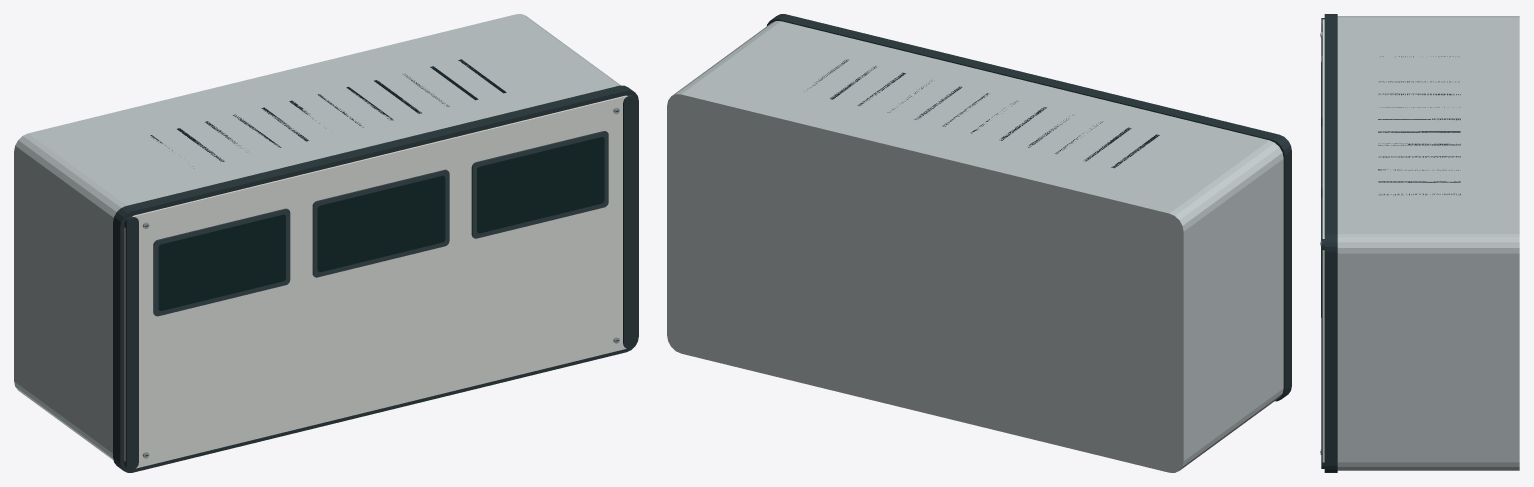
File: supply.obj
The picture shows the model from 3 angles, left to right: view 1: azimuth 30°, elevation 25°; view 2: azimuth 150°, elevation 25°; view 3: azimuth 270°, elevation 25°; orthographic projection. The views are drawn at different scales.
Size of the model in its own units: 1.47 by 0.731 by 0.5365.
